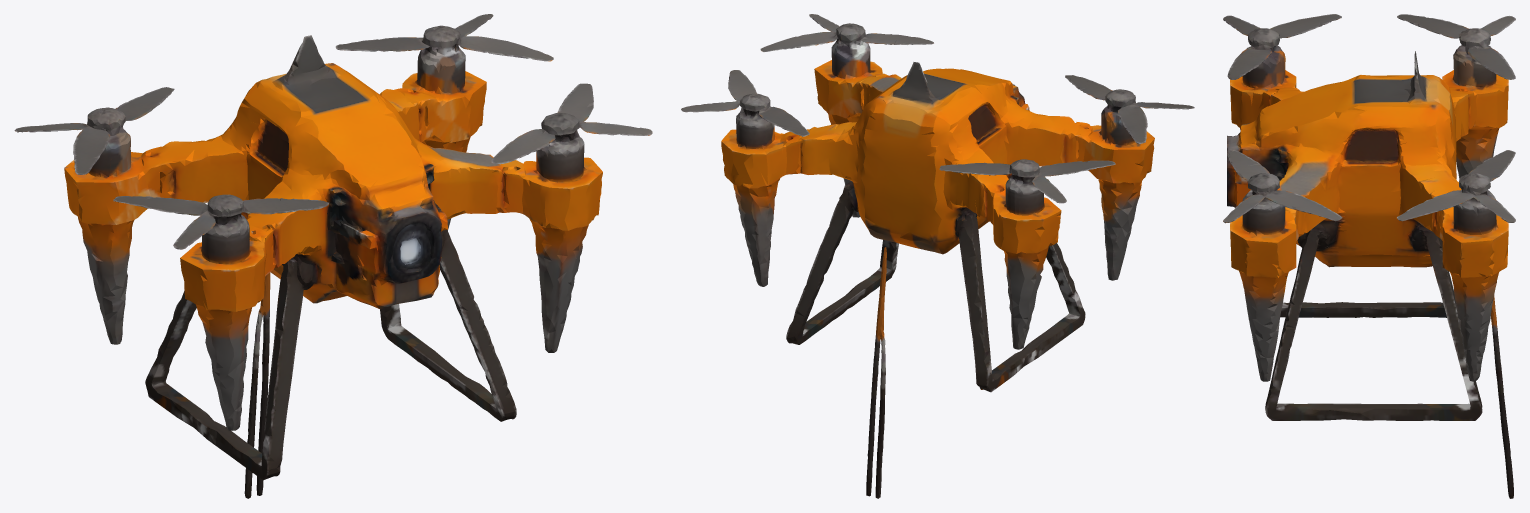
The model's file is worker_drone.glb.
3 views of the same model, side by side, from view 1: azimuth 30°, elevation 25°; view 2: azimuth 150°, elevation 25°; view 3: azimuth 270°, elevation 25° (orthographic). The views are drawn at different scales.
Parts seen in each view (by area): view 1: Worker_Drone; view 2: Worker_Drone; view 3: Worker_Drone.
Part boxes in pixels (<box>): Worker_Drone: <box>14,14,652,498</box>; Worker_Drone: <box>681,14,1194,498</box>; Worker_Drone: <box>1223,14,1515,498</box>.
Size of the model in its own units: 1.89 by 1.9 by 1.13.
Materials: 1 (1 with a texture image).
